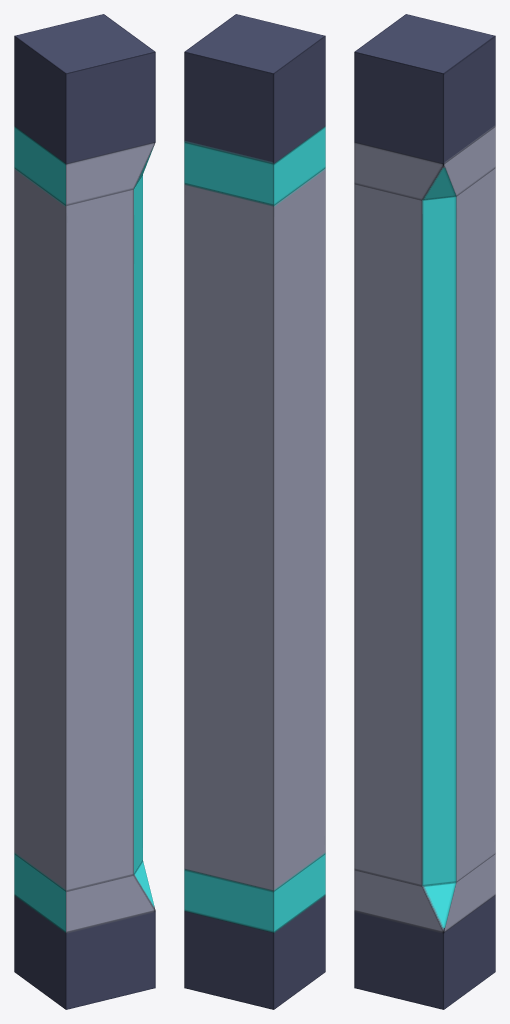
Rendered from sudut tembok.fbx.
3 views of the same model, side by side, from view 1: azimuth 30°, elevation 25°; view 2: azimuth 150°, elevation 25°; view 3: azimuth 330°, elevation 25° (orthographic).
Visible parts, largest first — view 1: Cube.001; view 2: Cube.001; view 3: Cube.001.
Boxes of the visible parts, x1,y1,x2,y2 form: Cube.001: (14, 14, 155, 1009); Cube.001: (184, 14, 325, 1009); Cube.001: (354, 14, 495, 1009).
Bounding box in the file's own units: 30 × 300 × 30.
